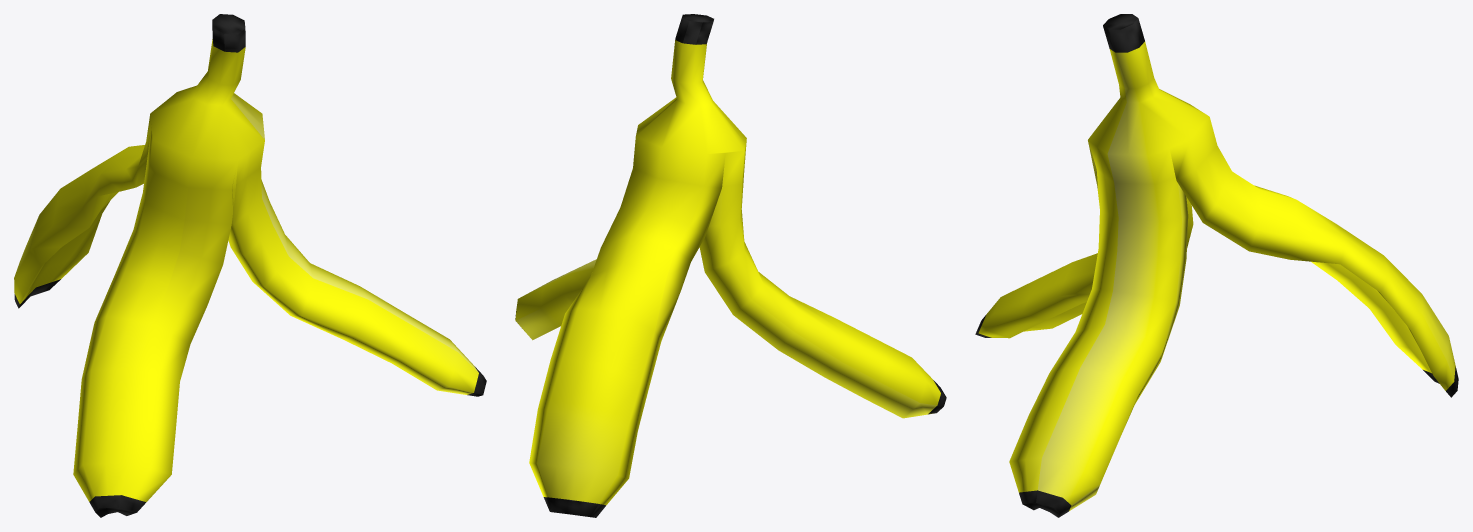
File: banana.glb
3 views of the same model, side by side, from view 1: azimuth 30°, elevation 25°; view 2: azimuth 150°, elevation 25°; view 3: azimuth 270°, elevation 25° (orthographic). The views are drawn at different scales.
Parts seen in each view (by area): view 1: bananahat; view 2: bananahat; view 3: bananahat.
Part boxes in pixels (box(x1,y1,x2,y2)): bananahat: box(14, 14, 486, 517); bananahat: box(515, 14, 946, 517); bananahat: box(975, 14, 1458, 517).
Bounding box in the file's own units: 0.3644 × 0.3431 × 0.3697.
1 material, 1 textured.
